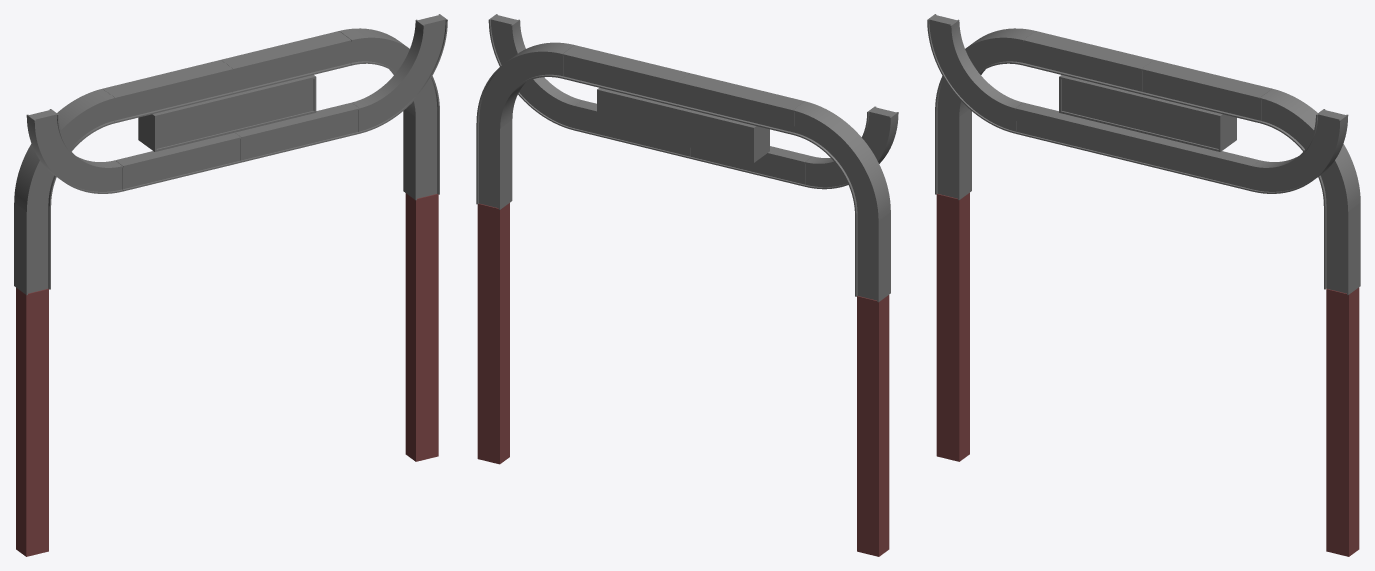
File: SM_gate_mainstreet.fbx
3 views of the same model, side by side, from view 1: azimuth 30°, elevation 25°; view 2: azimuth 150°, elevation 25°; view 3: azimuth 330°, elevation 25° (orthographic). The views are drawn at different scales.
Parts seen in each view (by area): view 1: Box54932541; view 2: Box54932541; view 3: Box54932541.
Boxes of the visible parts, box(x1,y1,x2,y2) form: Box54932541: box(14, 14, 447, 556); Box54932541: box(476, 14, 898, 556); Box54932541: box(927, 14, 1360, 556).
Bounding box in the file's own units: 310 × 318 × 29.37.
